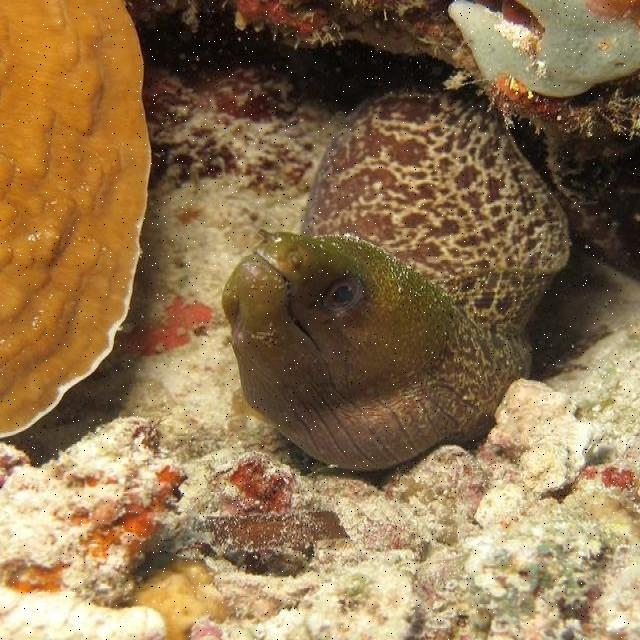fish: (222, 86, 570, 472)
reefs: (0, 0, 148, 434)
